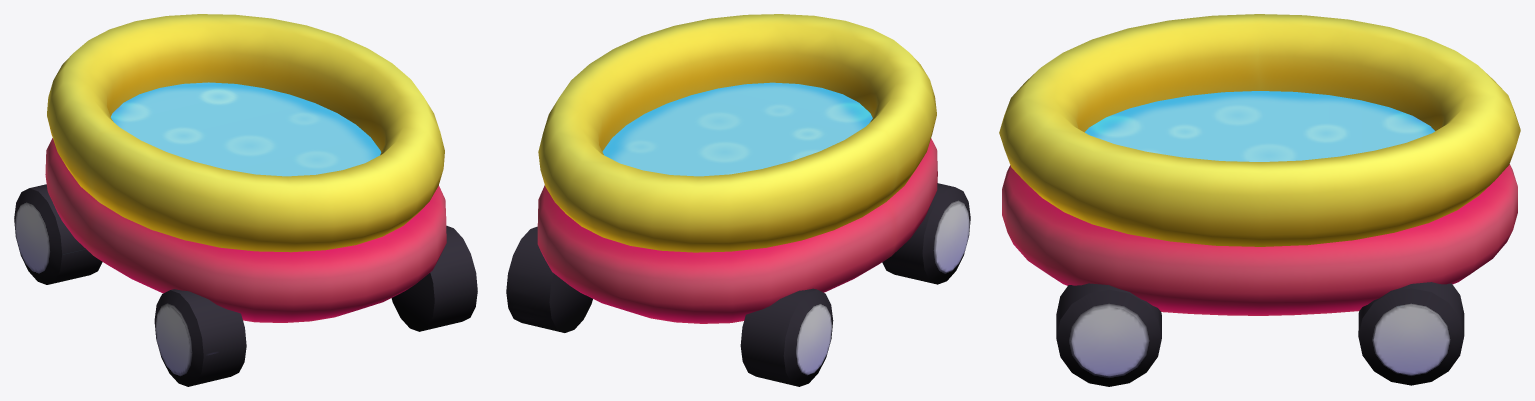
The model's file is waterpool.fbx.
3 views of the same model, side by side, from view 1: azimuth 30°, elevation 25°; view 2: azimuth 150°, elevation 25°; view 3: azimuth 270°, elevation 25° (orthographic). The views are drawn at different scales.
Parts seen in each view (by area): view 1: Torus.006; view 2: Torus.006; view 3: Torus.006.
Boxes of the visible parts, bbox=[...] form: Torus.006: bbox=[14, 14, 477, 386]; Torus.006: bbox=[506, 14, 970, 386]; Torus.006: bbox=[999, 14, 1520, 386].
Bounding box in the file's own units: 2.14 × 1.32 × 2.81.
